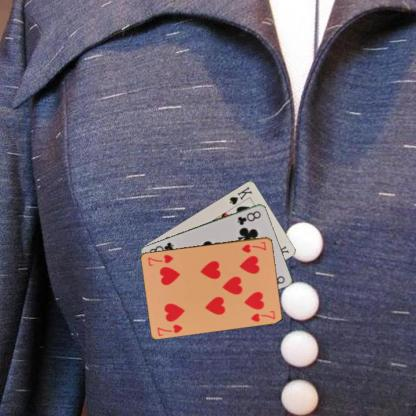7h: (238, 239, 268, 254), (155, 322, 184, 337)
8c: (235, 208, 262, 226)
Ks: (227, 184, 254, 206)
